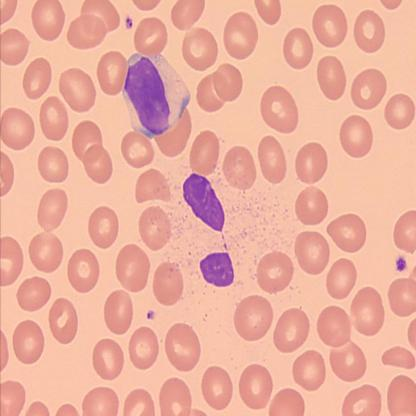Atypical lymphocyte: (158, 164, 303, 295), (122, 51, 192, 140)
